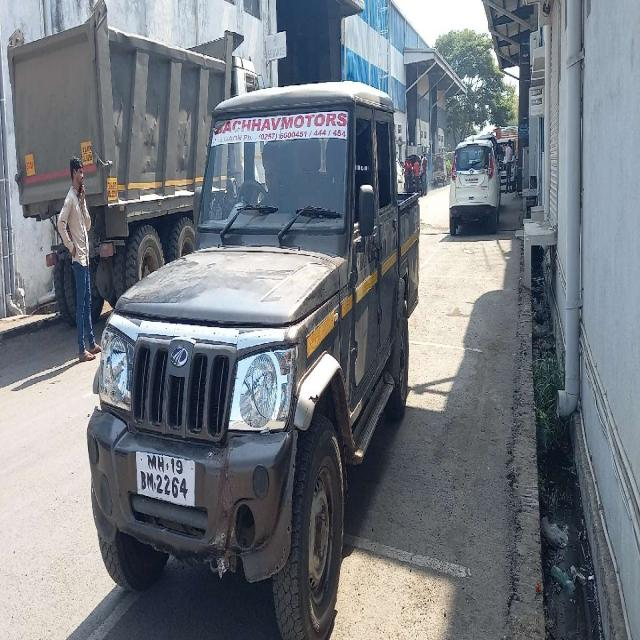light_vehicle: (88, 95, 417, 565)
